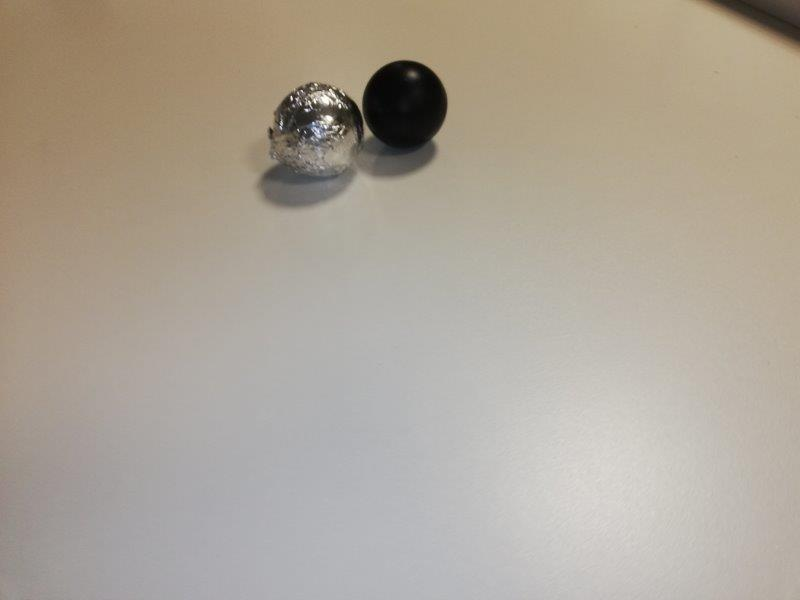bianca: (271, 83, 364, 179)
nera: (361, 60, 449, 150)
